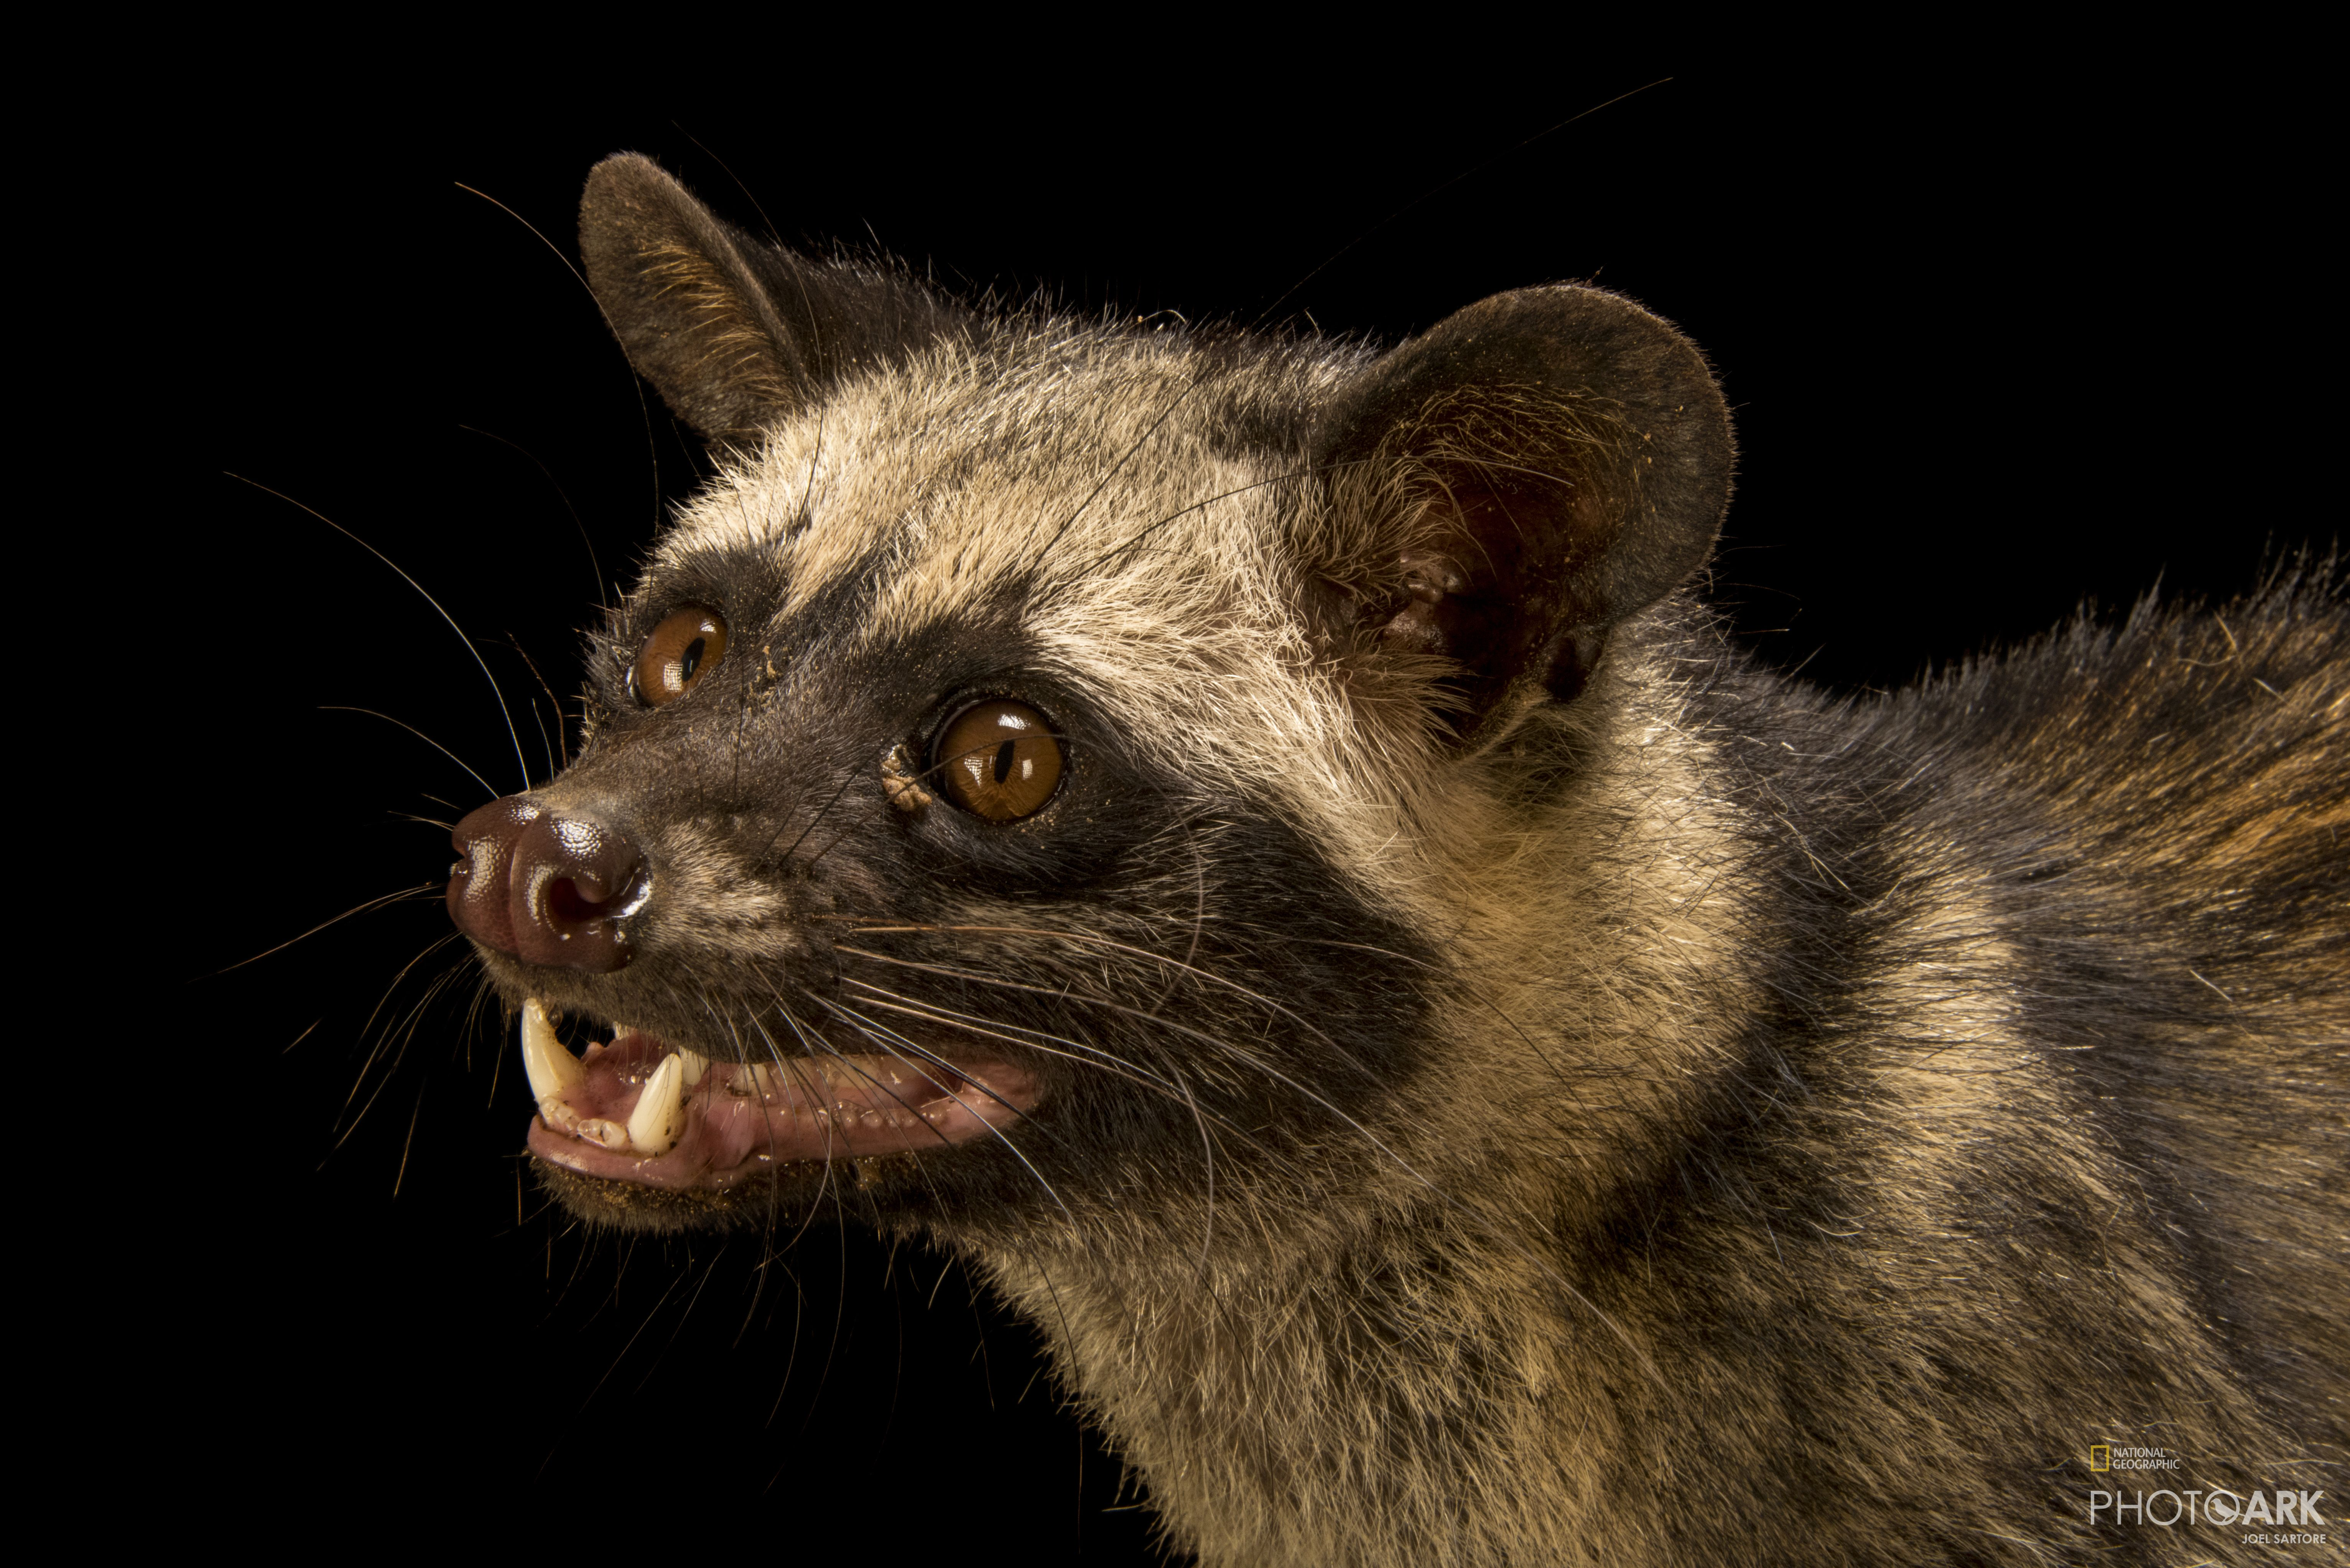Civet: (395, 79, 1746, 1306)
